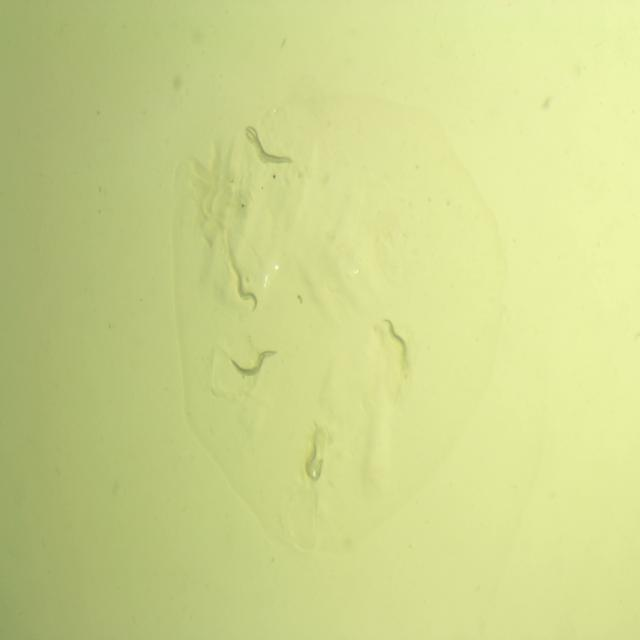worm: (244, 125, 295, 167), (226, 344, 281, 381), (380, 311, 413, 367), (230, 263, 260, 317), (302, 426, 327, 486), (243, 122, 269, 166)
